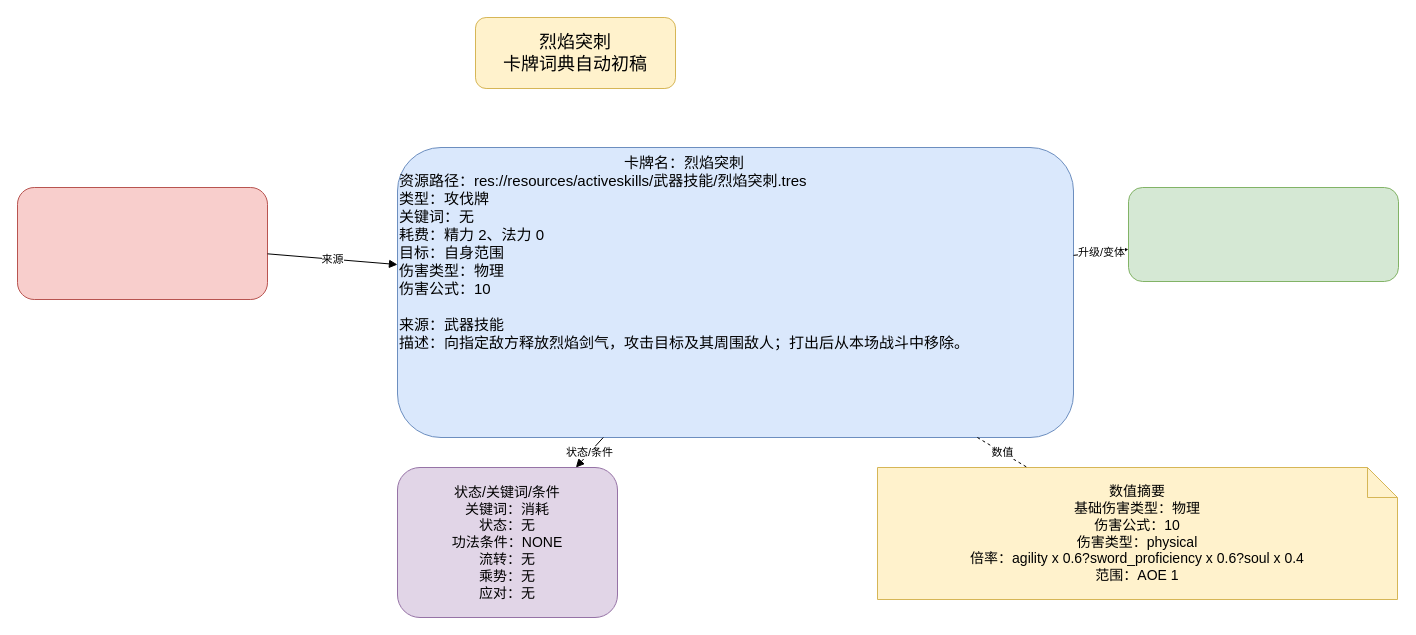
Some shapes in this 1416 by 635 pixel diagram are drawn without their labels. Each missing label, with the centre of its shape:
升级/变体预留 可在此补：升级牌 / 主修强化版 / 化法后新牌 同系：武器技能: point 1263,234
来源/前置 来源分类：武器技能 来源秘籍：无 可在此补：前置牌 / 被替换牌 / 基础牌来源: point 142,243
